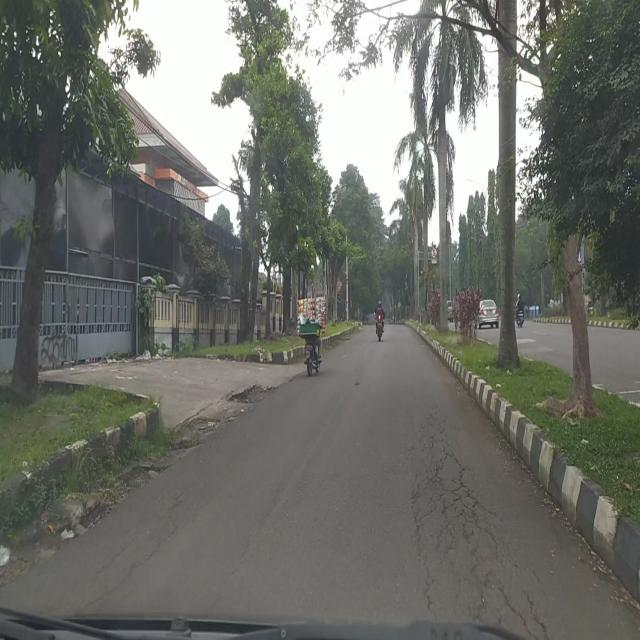Drain Hole: (406, 413, 550, 634)
